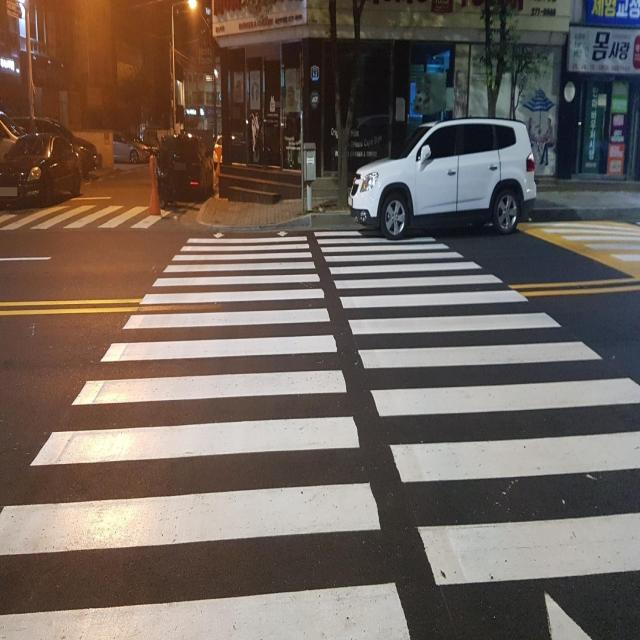횡단보도: (0, 229, 640, 640), (0, 203, 174, 228)
